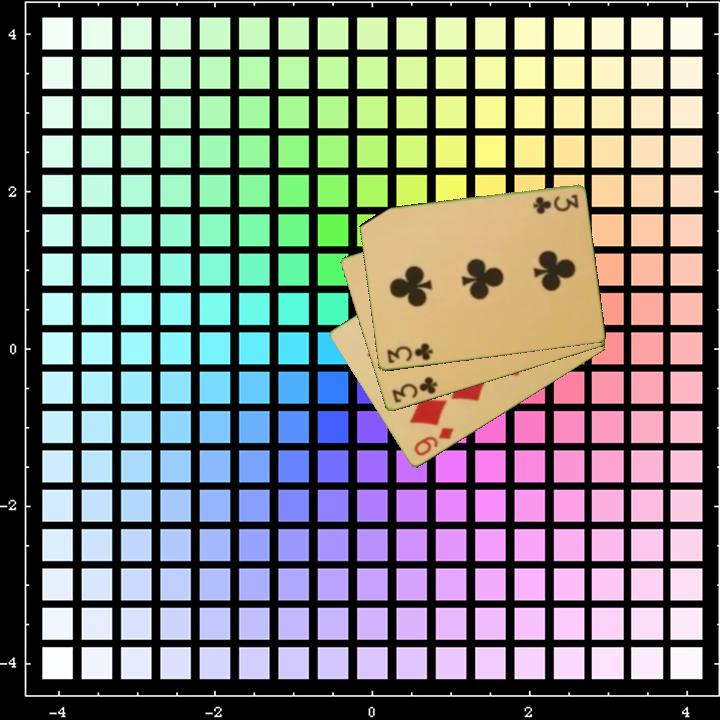3c: (388, 373, 440, 406), (383, 340, 436, 366), (529, 191, 581, 215)
9d: (410, 424, 457, 459)
